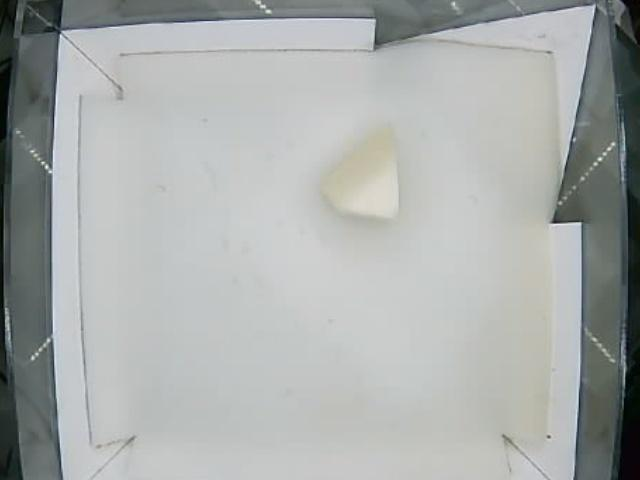Mooli: (322, 129, 402, 223)
